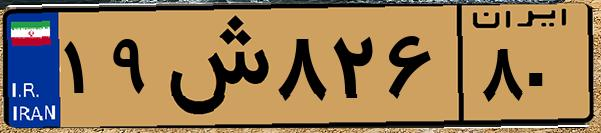0: (525, 38, 570, 115)
1: (57, 26, 110, 100)
2: (330, 28, 385, 110)
6: (385, 28, 445, 110)
8: (270, 28, 330, 110), (475, 38, 525, 113)
9: (110, 28, 158, 98)
ش: (158, 12, 270, 120)
